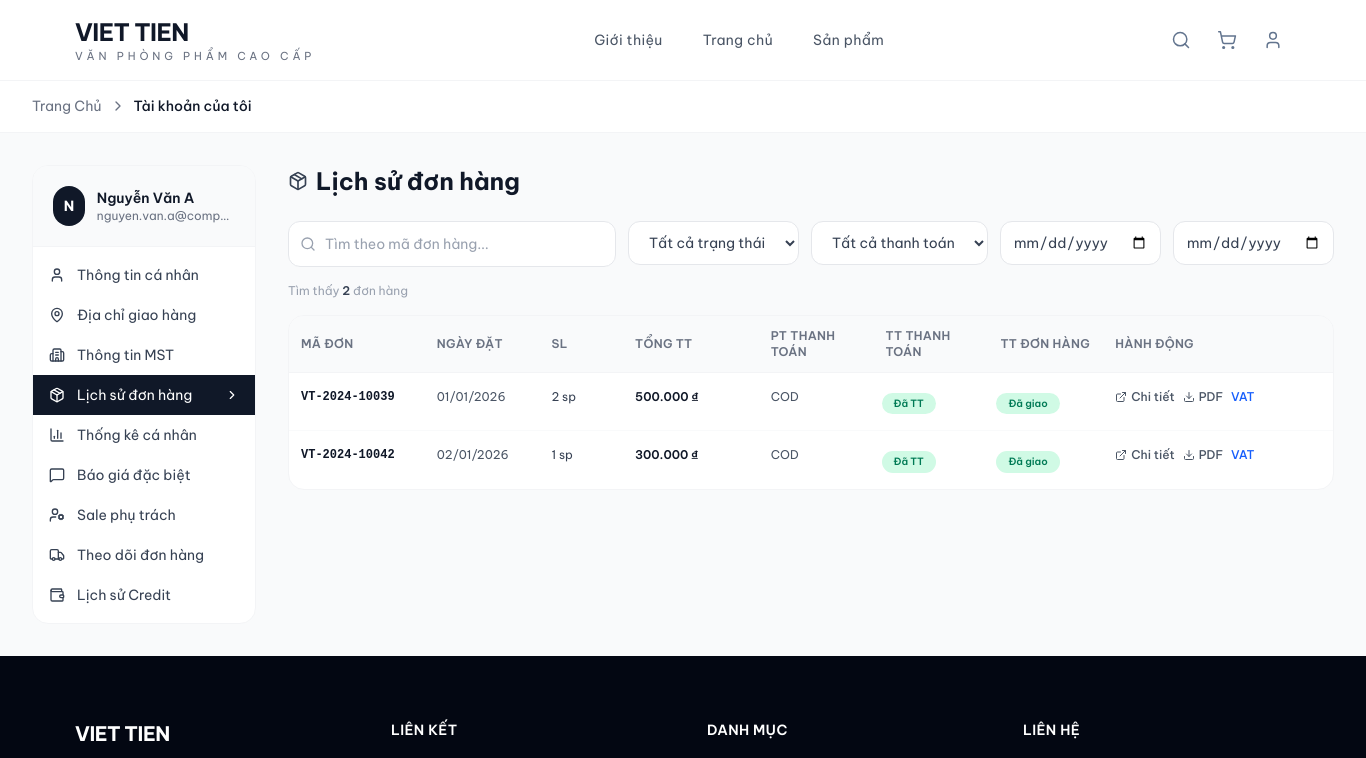
it: Profile › filters order history by search keyword
In the field with placeholder "Tìm theo mã đơn hàng...": {"x": 452, "y": 244} [288,221,616,267], type "VT-2024-10039"
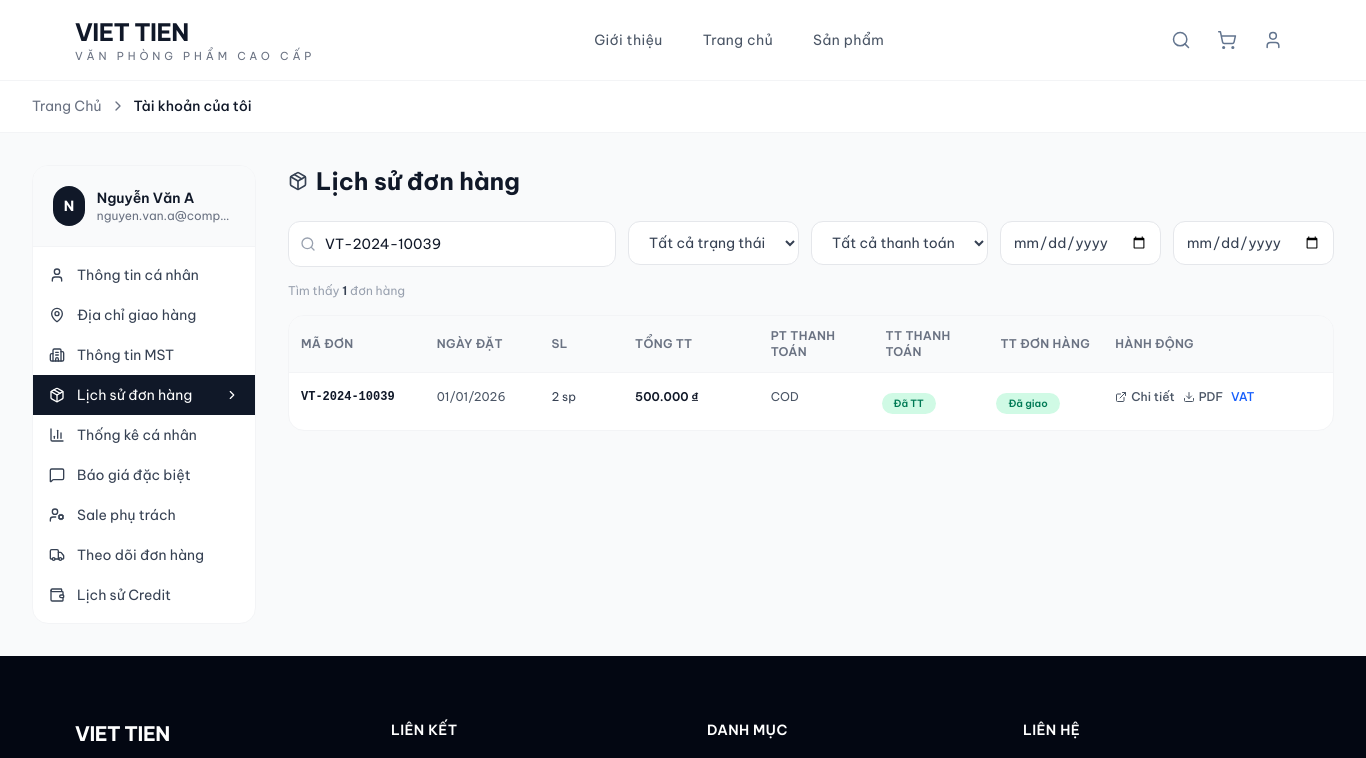
Expected: the text "VT-2024-10039" is shown, [301,390,395,404]
Now the text "VT-2024-10042" is not shown
